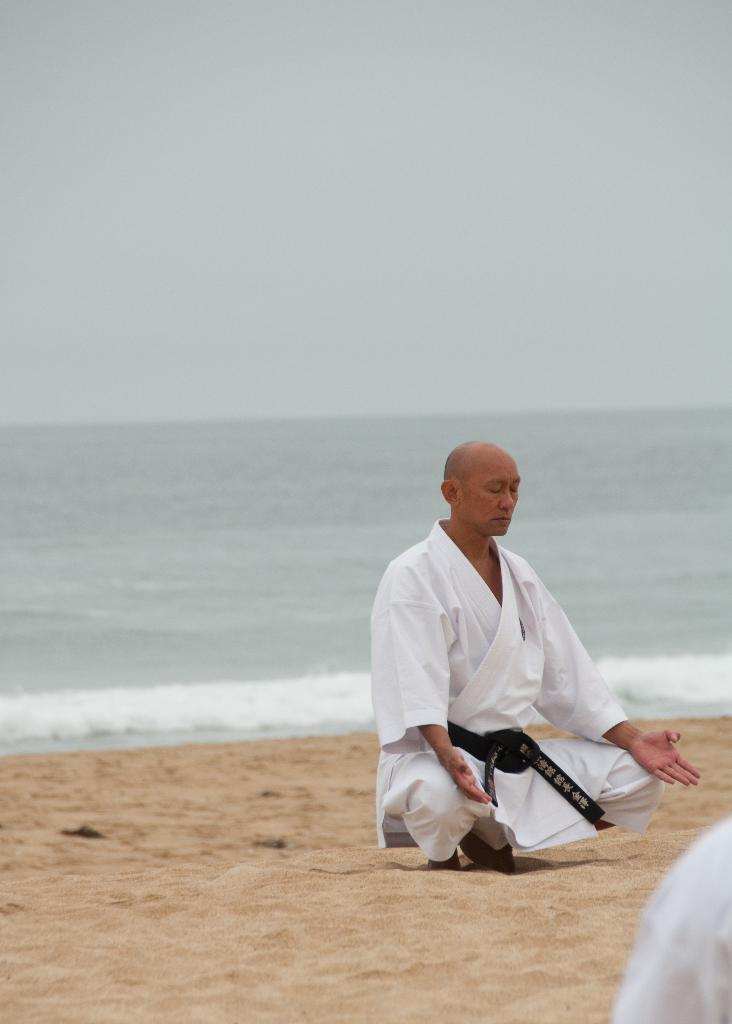Human_hand: (611, 713, 703, 802), (438, 751, 495, 803)
